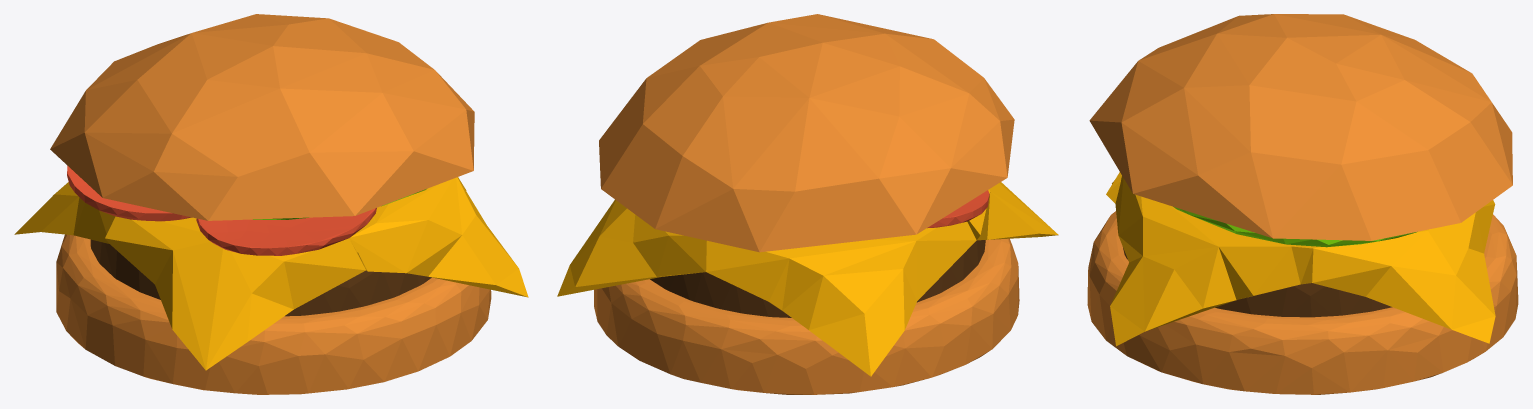
The model's file is Burbur.fbx.
3 views of the same model, side by side, from view 1: azimuth 30°, elevation 25°; view 2: azimuth 150°, elevation 25°; view 3: azimuth 270°, elevation 25° (orthographic). The views are drawn at different scales.
Visible parts, largest first — view 1: Sphere, Plane, Cylinder, Cylinder.007, Cylinder.001, Cylinder.005; view 2: Sphere, Plane, Cylinder, Cylinder.001, Cylinder.005; view 3: Sphere, Plane, Cylinder, Cylinder.001, Cylinder.003.
Boxes of the visible parts, x1,y1,x2,y2 form: Sphere: [50, 14, 474, 220]; Plane: [14, 177, 528, 370]; Cylinder: [56, 234, 491, 394]; Cylinder.007: [196, 208, 376, 255]; Cylinder.001: [90, 239, 431, 316]; Cylinder.005: [67, 166, 191, 221]; Sphere: [599, 14, 1014, 252]; Plane: [557, 182, 1058, 376]; Cylinder: [594, 238, 1019, 394]; Cylinder.001: [650, 240, 985, 317]; Cylinder.005: [927, 190, 989, 228]; Sphere: [1089, 14, 1512, 240]; Plane: [1106, 172, 1495, 346]; Cylinder: [1087, 211, 1518, 394]; Cylinder.001: [1123, 248, 1392, 317]; Cylinder.003: [1173, 206, 1417, 247].
Bounding box in the file's own units: 199 × 134 × 199.
